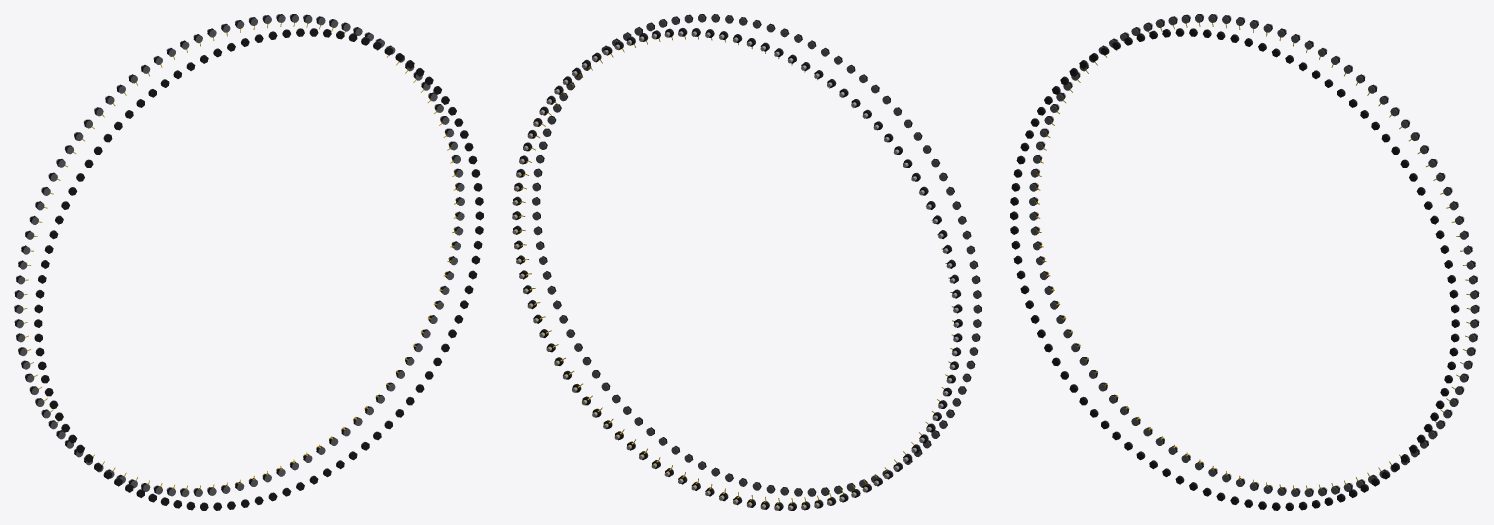
The model's file is flange_3_bolts_loose.glb.
The picture shows the model from 3 angles, left to right: view 1: azimuth 30°, elevation 25°; view 2: azimuth 150°, elevation 25°; view 3: azimuth 330°, elevation 25°; orthographic projection.
Parts seen in each view (by area): view 1: flange_3_bolts_loose; view 2: flange_3_bolts_loose; view 3: flange_3_bolts_loose.
Part boxes in pixels (left/top/right/bottom): flange_3_bolts_loose: left=14, top=14, right=483, bottom=510; flange_3_bolts_loose: left=512, top=14, right=981, bottom=510; flange_3_bolts_loose: left=1010, top=14, right=1479, bottom=510.
Size of the model in its own units: 4.16 by 4.16 by 0.3733.
4 materials, 3 textured.
